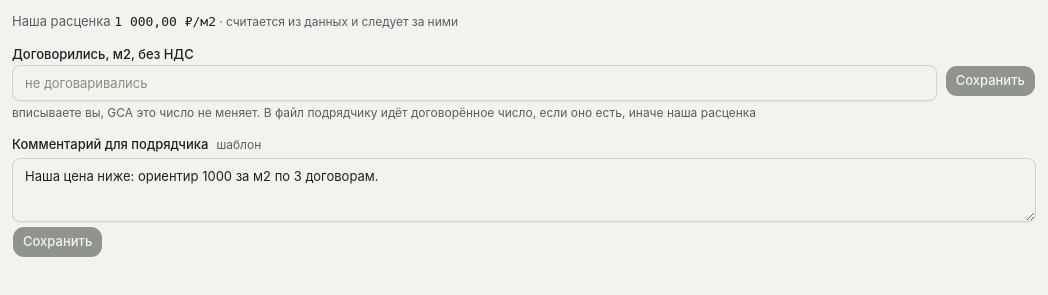
Scenario: «Договорились»: когда и что уходит › отказ invalid_agreed: текст сервера у поля, тоста нет; правка текст снимает
In the field labelled "Договорились, м2, без НДС": (474, 82) [12,64,937,100], type "abc"
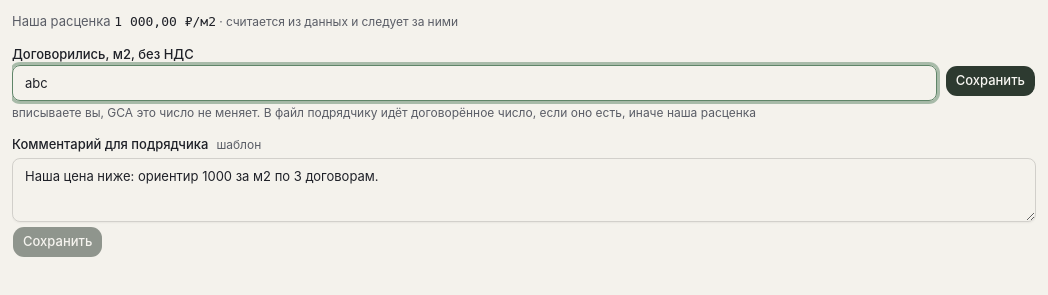
Click the button with test id "agreed-save": click(990, 80) [945,64,1036,96]
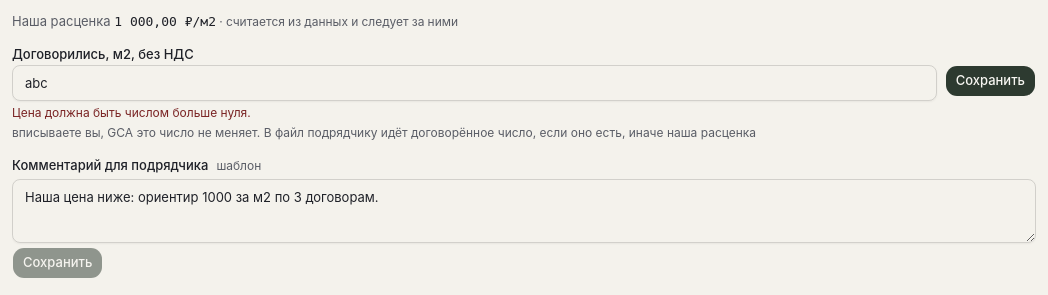
expect the message with test id "agreed-error" reads "Цена должна быть числом больше нуля.": met, box [12,104,251,120]
In the field labelled "Договорились, м2, без НДС": (474, 82) [12,64,937,100], type "1"
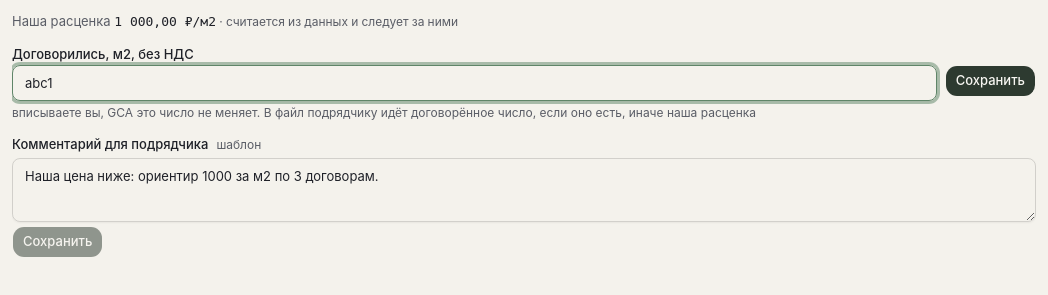
expect the message with test id "agreed-error" is gone: met
